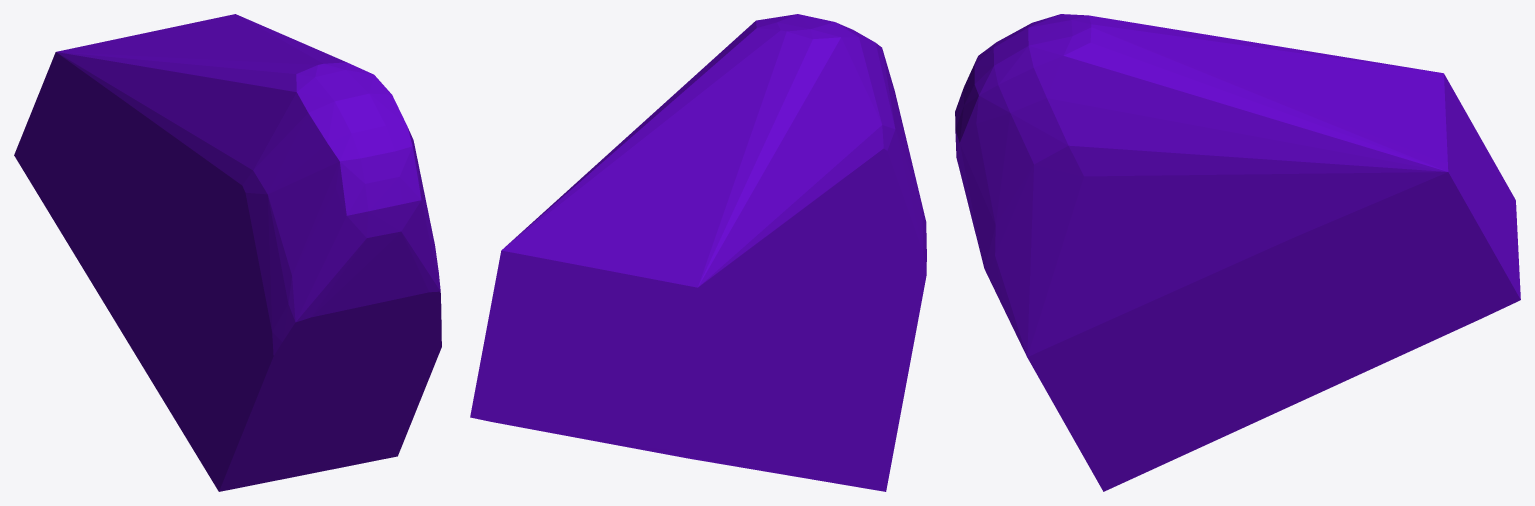
File: converted_Downdraft_Assy_collision_32_6303ccff.obj
The picture shows the model from 3 angles, left to right: view 1: azimuth 30°, elevation 25°; view 2: azimuth 150°, elevation 25°; view 3: azimuth 270°, elevation 25°; orthographic projection. The views are drawn at different scales.
Bounding box in the file's own units: 0.0821 × 0.1733 × 0.2091.
